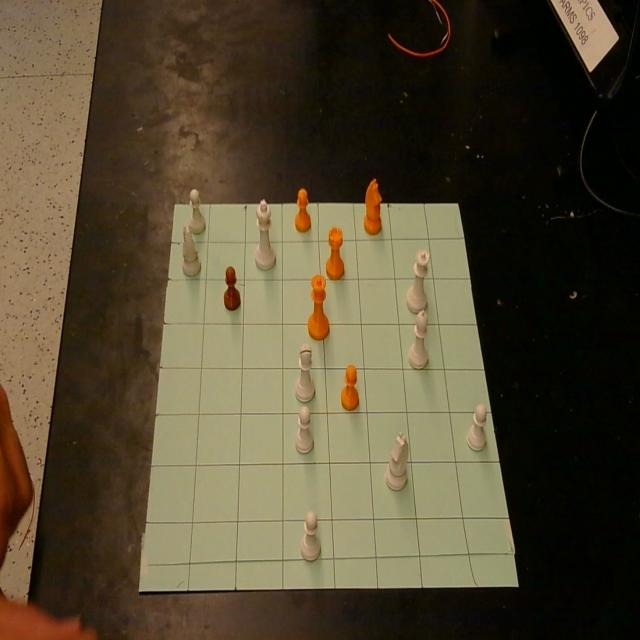orange_bishop: (223, 266, 240, 310)
orange_knight: (364, 178, 382, 235)
orange_pawn: (341, 365, 359, 411), (295, 187, 311, 232)
orange_queen: (308, 274, 330, 340)
orange_rook: (326, 225, 345, 280)
white_bishop: (408, 309, 429, 369), (296, 342, 316, 402)
white_king: (255, 200, 276, 270)
white_knight: (384, 432, 409, 491), (182, 225, 200, 277)
white_pawn: (466, 404, 487, 451), (301, 511, 320, 561), (295, 406, 313, 453), (188, 188, 205, 235)
white_queen: (406, 249, 429, 313)
